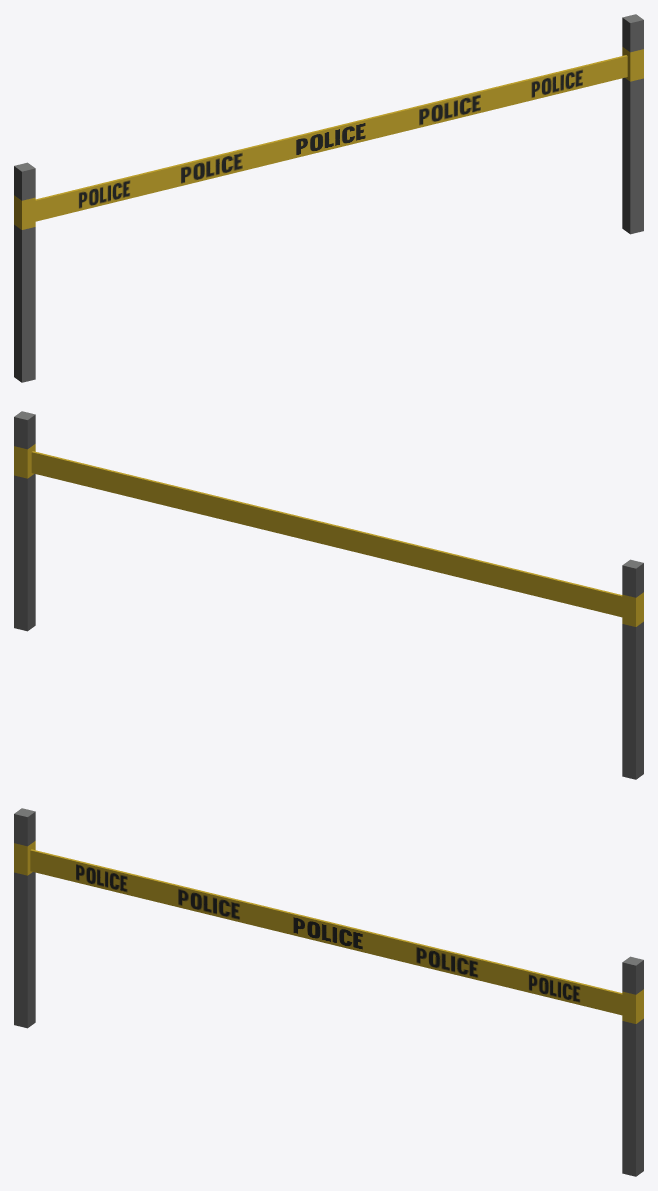
File: police_tape.glb
3 views of the same model, one above another, from view 1: azimuth 30°, elevation 25°; view 2: azimuth 150°, elevation 25°; view 3: azimuth 330°, elevation 25° (orthographic).
Visible parts, largest first — view 1: SM_Prop_PoliceTape_04; view 2: SM_Prop_PoliceTape_04; view 3: SM_Prop_PoliceTape_04.
Boxes of the visible parts, box(x1,y1,x2,y2) form: SM_Prop_PoliceTape_04: box(14, 14, 643, 382); SM_Prop_PoliceTape_04: box(14, 411, 643, 779); SM_Prop_PoliceTape_04: box(14, 808, 643, 1176).
Bounding box in the file's own units: 11.73 × 3.8 × 0.2582.
1 material, 1 textured.
